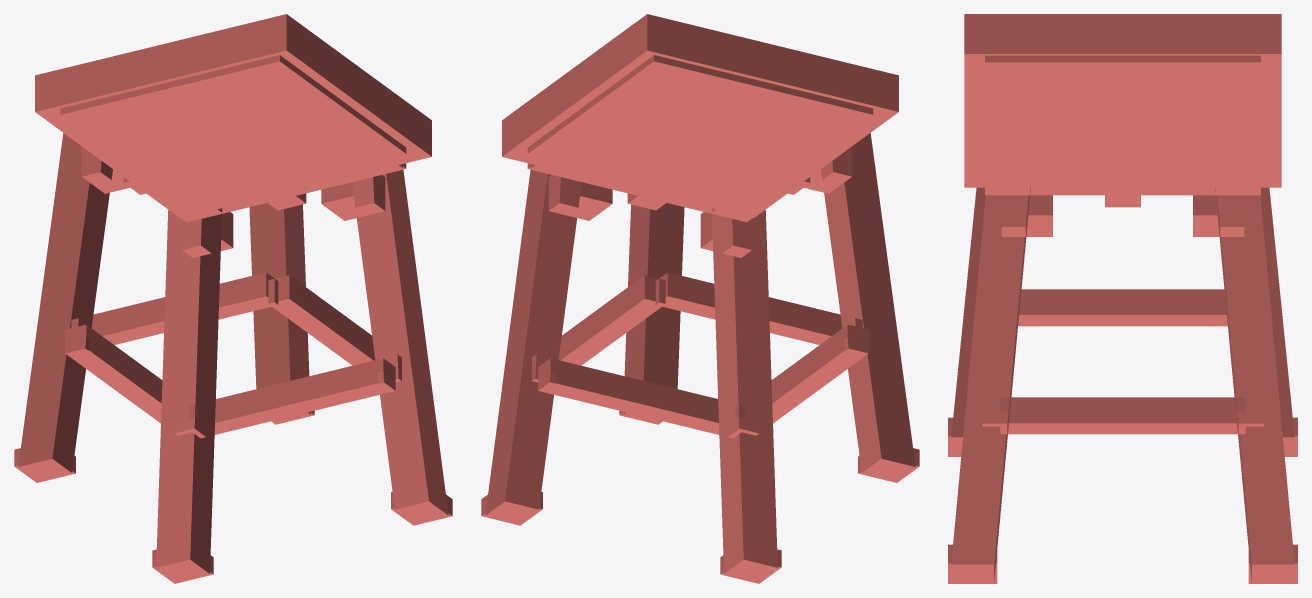
The model's file is ghe-nhua.glb.
3 renders of one model, left to right at view 1: azimuth 30°, elevation 25°; view 2: azimuth 150°, elevation 25°; view 3: azimuth 270°, elevation 25°, orthographic. The views are drawn at different scales.
Visible parts, largest first — view 1: GheNhuaHaNoi; view 2: GheNhuaHaNoi; view 3: GheNhuaHaNoi.
Boxes of the visible parts, <box> form: GheNhuaHaNoi: <box>14,14,452,583</box>; GheNhuaHaNoi: <box>481,14,919,583</box>; GheNhuaHaNoi: <box>948,14,1297,583</box>.
Bounding box in the file's own units: 0.342 × 0.463 × 0.342.
